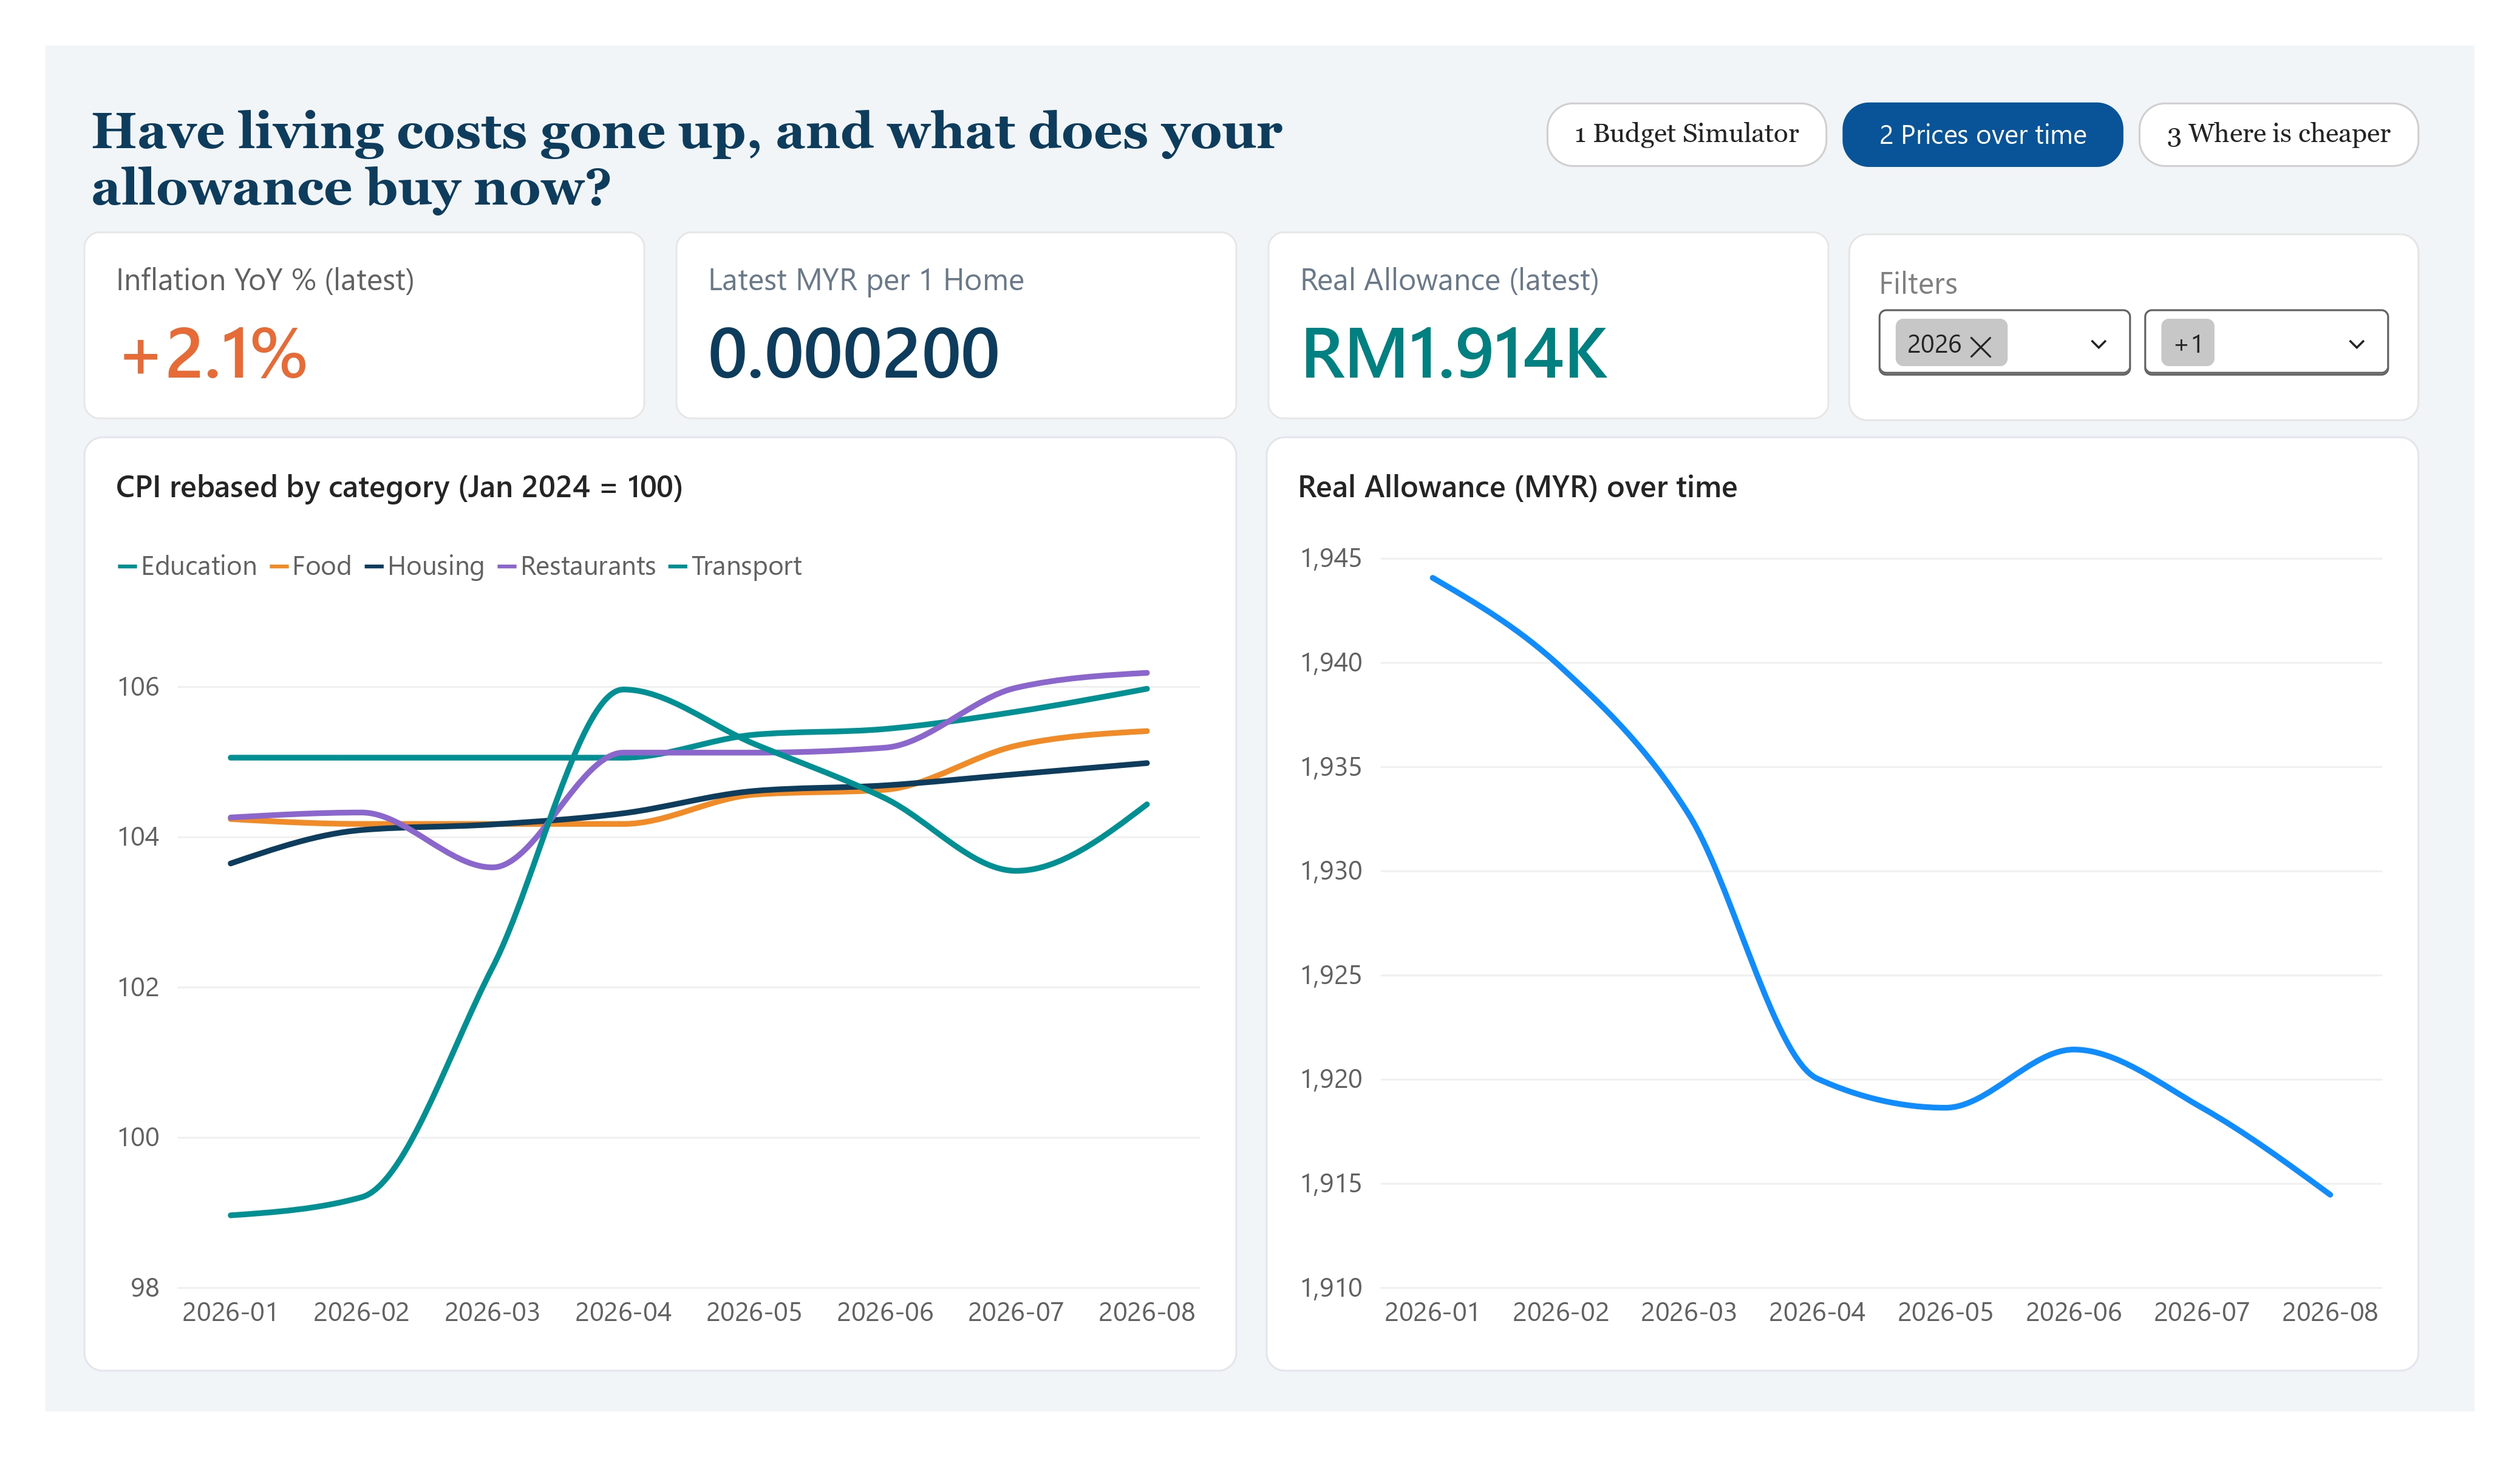

Layout of this report page (visuals, bound fields, positions):
{"tool":"powerbi","page":{"name":"2 Prices over time","canvas":[1280,720],"ordinal":1},"visuals":[{"type":"textbox","box":[23.8,30,770,65],"z":0},{"type":"pageNavigator","box":[791,30,460,34],"z":1000},{"type":"cardVisual","fields":{"Data":["Budget Items.Inflation YoY % (latest)"]},"box":[19.8,98.2,296,99],"z":2000},{"type":"cardVisual","fields":{"Data":["Measures\\.Latest MYR per 1 Home"]},"box":[331.8,98.2,296,99],"z":3000},{"type":"cardVisual","fields":{"Data":["Budget Items.Real Allowance (latest)"]},"box":[643.8,98.2,296,99],"z":4000},{"type":"shape","box":[950,98.8,301.2,98.8],"z":7000},{"type":"textbox","box":[966.2,113.8,215,22.5],"z":8000},{"type":"listSlicer","fields":{"Values":["DateTable.Year"]},"box":[950,125,165,52.5],"z":9000},{"type":"listSlicer","fields":{"Values":["StateDim.state"]},"box":[1090,125,161.2,52.5],"z":10000},{"type":"lineChart","title":"CPI rebased by category (Jan 2024 = 100)","fields":{"Category":["DateTable.YearMonth"],"Series":["CPI.Category Name"],"Y":["Measures\\.CPI Rebased"]},"box":[20,205.6,607.8,493.3],"z":11000},{"type":"lineChart","title":"Real Allowance (MYR) over time","fields":{"Category":["DateTable.YearMonth"],"Y":["Budget Items.Real Allowance (trend)"]},"box":[643.3,205.6,607.8,493.3],"z":12000}]}

Visuals, with their boxes on the page's 1280x720 design canvas (x1, y1, x2, y2). These are canvas units, not pixel positions in the 2520x1457 screenshot, which may show the page scaled, cropped or inside an application window:
textbox: <box>24,30,794,95</box>
pageNavigator: <box>791,30,1251,64</box>
cardVisual - Budget Items.Inflation YoY % (latest): <box>20,98,316,197</box>
cardVisual - Measures\.Latest MYR per 1 Home: <box>332,98,628,197</box>
cardVisual - Budget Items.Real Allowance (latest): <box>644,98,940,197</box>
shape: <box>950,99,1251,198</box>
textbox: <box>966,114,1181,136</box>
listSlicer - DateTable.Year: <box>950,125,1115,178</box>
listSlicer - StateDim.state: <box>1090,125,1251,178</box>
"CPI rebased by category (Jan 2024 = 100)" lineChart: <box>20,206,628,699</box>
"Real Allowance (MYR) over time" lineChart: <box>643,206,1251,699</box>
